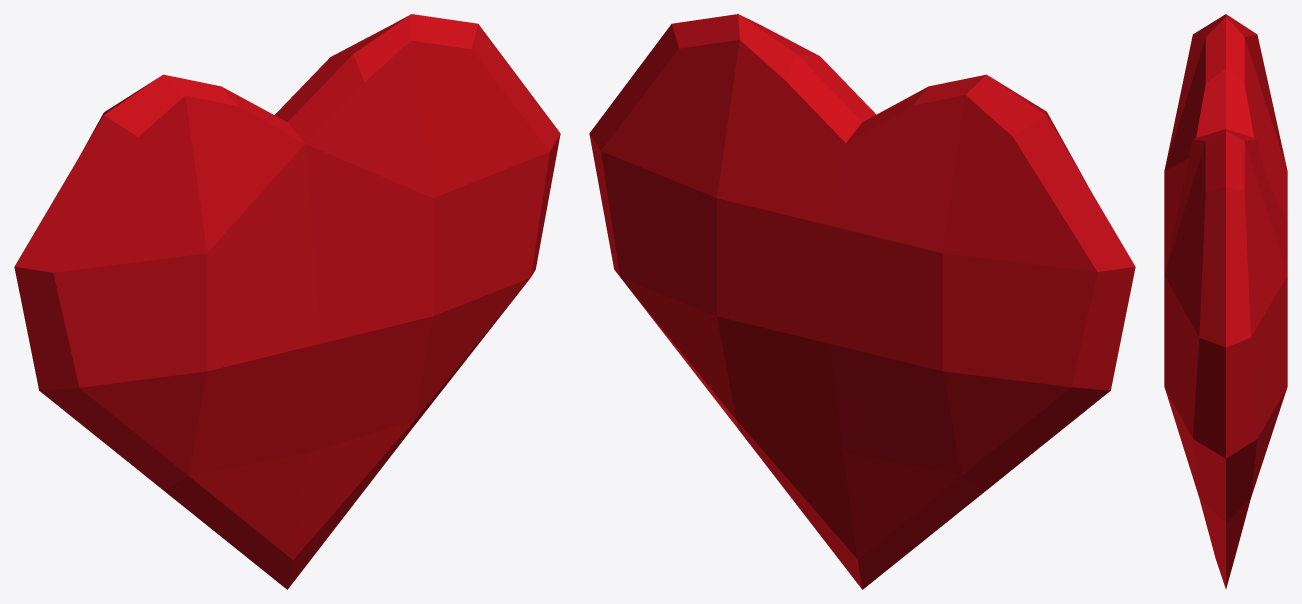
The model's file is Heart.obj.
The picture shows the model from 3 angles, left to right: view 1: azimuth 30°, elevation 25°; view 2: azimuth 150°, elevation 25°; view 3: azimuth 270°, elevation 25°; orthographic projection. The views are drawn at different scales.
Parts seen in each view (by area): view 1: Cube.016; view 2: Cube.016; view 3: Cube.016.
Boxes of the visible parts, left/top/right/bottom form: Cube.016: left=14, top=14, right=560, bottom=589; Cube.016: left=589, top=14, right=1135, bottom=589; Cube.016: left=1164, top=14, right=1287, bottom=588.
Size of the model in its own units: 2.17 by 2.07 by 0.4479.
